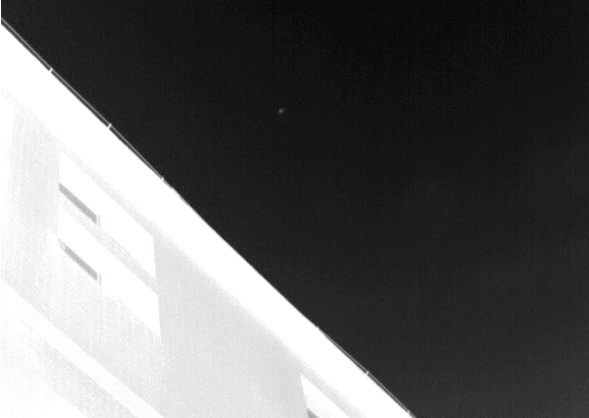dim target: (277, 107, 284, 113)
